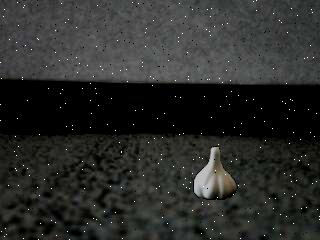Garlic: (194, 146, 238, 200)
